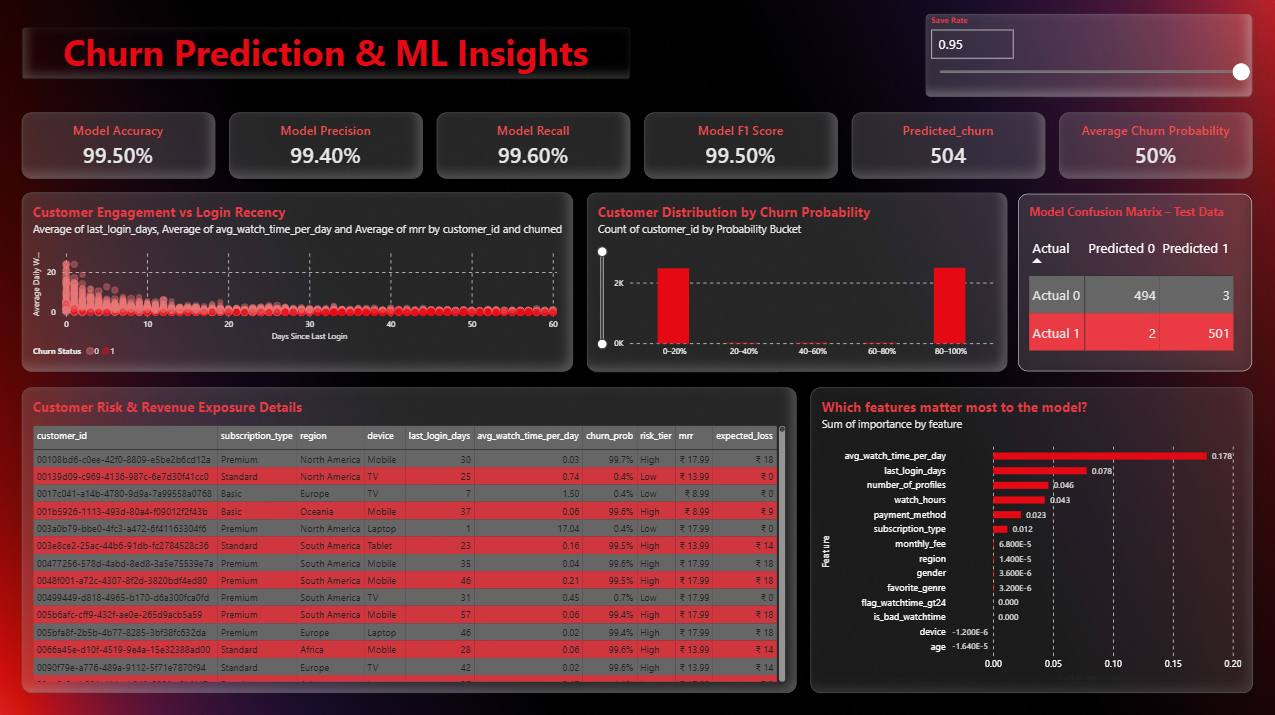

The dashboard page shown, as its layout file describes it:
{"tool":"powerbi","page":{"name":"Churn Prediction & ML Insights","canvas":[1920,1080],"ordinal":1},"visuals":[{"type":"clusteredBarChart","title":"Which features matter most to the model?","fields":{"Category":["feature_importance.feature"],"Y":["Sum(feature_importance.importance)"]},"box":[1218.2,581.3,663.8,458.5],"z":0},{"type":"clusteredColumnChart","title":"Customer Distribution by Churn Probability","fields":{"Category":["churn_scored.Probability Bucket"],"Y":["Count(churn_scored.customer_id)"]},"box":[882.5,289.7,631.2,268.6],"z":1000},{"type":"scatterChart","title":"Customer Engagement vs Login Recency","fields":{"Category":["churn_scored.customer_id"],"Series":["churn_scored.churned"],"Size":["Avg(churn_scored.mrr)"],"X":["Avg(churn_scored.last_login_days)"],"Y":["Avg(churn_scored.avg_watch_time_per_day)"]},"box":[36.5,289.7,826.9,268.6],"z":2000},{"type":"tableEx","title":"Customer Risk & Revenue Exposure Details","fields":{"Values":["churn_scored.customer_id","churn_scored.subscription_type","churn_scored.region","churn_scored.device","churn_scored.last_login_days","churn_scored.avg_watch_time_per_day","churn_scored.churn_prob","churn_scored.risk_tier","churn_scored.mrr","churn_scored.expected_loss"]},"box":[36.5,581.3,1162.6,458.5],"z":3000},{"type":"textbox","box":[36.2,41.6,913,77.5],"z":4000},{"type":"slicer","title":"Save Rate","fields":{"Values":["Save Rate.Save Rate"]},"box":[1391.6,19.9,490.4,124.9],"z":5000},{"type":"cardVisual","fields":{"Data":["test_predictions.Model Accuracy"]},"box":[36.2,168.3,290,99.5],"z":6000},{"type":"cardVisual","fields":{"Data":["Sum(test_predictions.predicted_churn)"]},"box":[1281.2,168.3,290,99.5],"z":7000},{"type":"cardVisual","fields":{"Data":["test_predictions.Model Recall"]},"box":[658.7,168.3,290,99.5],"z":8000},{"type":"cardVisual","fields":{"Data":["churn_scored.Average Churn Probability"]},"box":[1592.5,168.3,290,99.5],"z":9000},{"type":"cardVisual","fields":{"Data":["test_predictions.Model F1 Score"]},"box":[970,168.3,290,99.5],"z":10000},{"type":"cardVisual","fields":{"Data":["test_predictions.Model Precision"]},"box":[347.5,168.3,290,99.5],"z":11000},{"type":"pivotTable","title":"Model Confusion Matrix – Test Data","fields":{"Columns":["Prediction Axis.Predicted"],"Rows":["Confusion Axis.Actual"],"Values":["test_predictions.Confusion Matrix Value"]},"box":[1530.9,291.6,351.1,266.7],"z":11001}]}

Visuals, with their boxes in screenshot pixels (x1, y1, x2, y2), scaled from the page's 1920x1080 canvas onto the 1275x715 screenshot:
"Which features matter most to the model?" clusteredBarChart: 809 385 1250 688
"Customer Distribution by Churn Probability" clusteredColumnChart: 586 192 1005 370
"Customer Engagement vs Login Recency" scatterChart: 24 192 573 370
"Customer Risk & Revenue Exposure Details" tableEx: 24 385 796 688
textbox: 24 28 630 79
"Save Rate" slicer: 924 13 1250 96
cardVisual - test_predictions.Model Accuracy: 24 111 217 177
cardVisual - Sum(test_predictions.predicted_churn): 851 111 1043 177
cardVisual - test_predictions.Model Recall: 437 111 630 177
cardVisual - churn_scored.Average Churn Probability: 1058 111 1250 177
cardVisual - test_predictions.Model F1 Score: 644 111 837 177
cardVisual - test_predictions.Model Precision: 231 111 423 177
"Model Confusion Matrix – Test Data" pivotTable: 1017 193 1250 370
